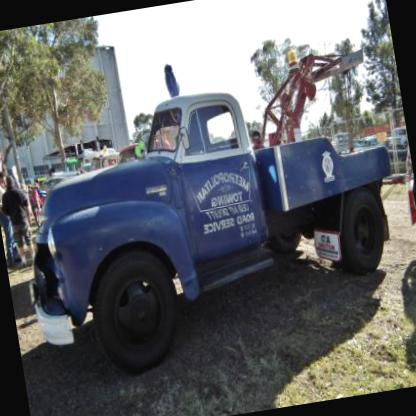truck: (0, 49, 415, 380), (331, 132, 353, 154)
